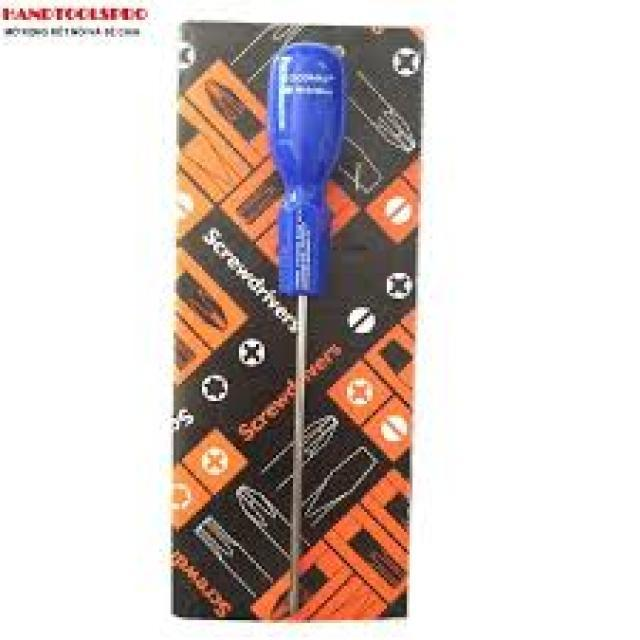screwdriver: (44, 312, 613, 416)
